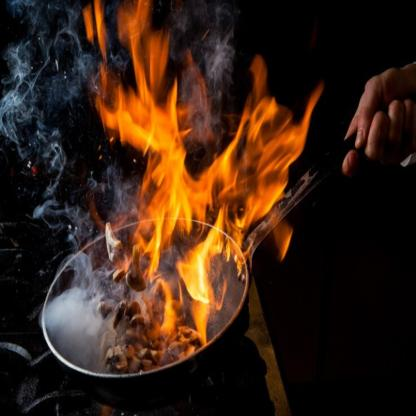fire: (83, 0, 318, 364)
smoke: (0, 0, 120, 308), (187, 6, 242, 117)
